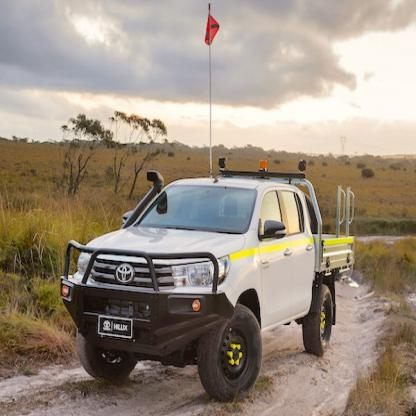light_vehicle: (57, 154, 355, 406)
